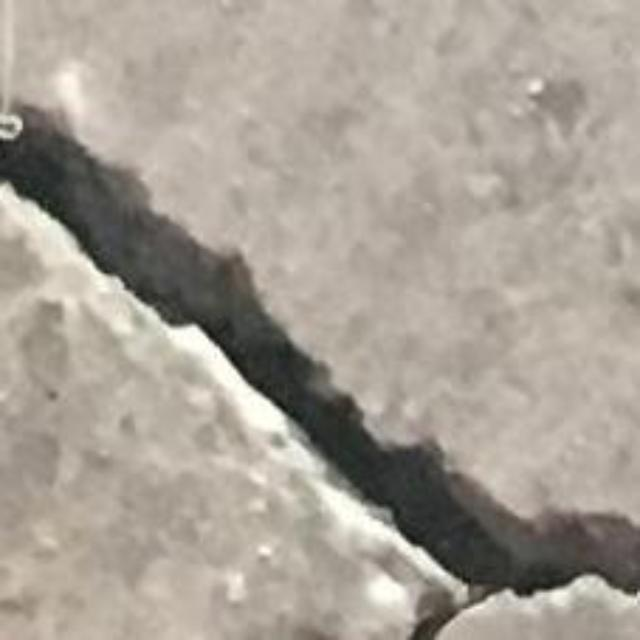crack: (0, 105, 639, 639)
